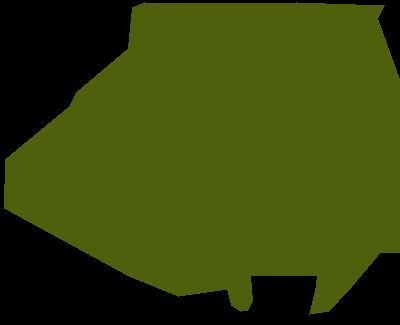Train: (4, 2, 400, 314)
